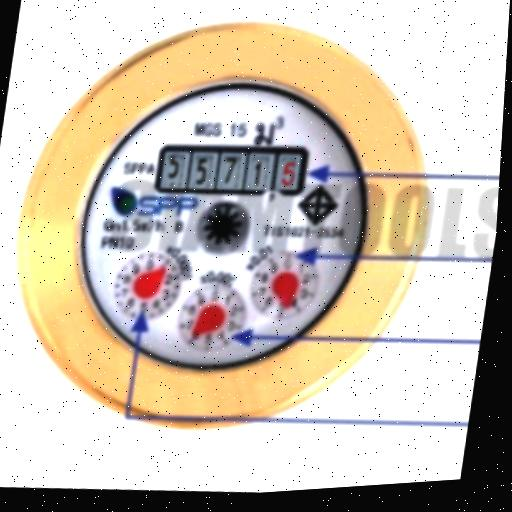1: (249, 157, 269, 191)
5: (163, 155, 185, 189), (192, 155, 212, 190), (279, 157, 299, 190)
7: (220, 155, 242, 190)
border_water_meter_number: (153, 134, 311, 206)
